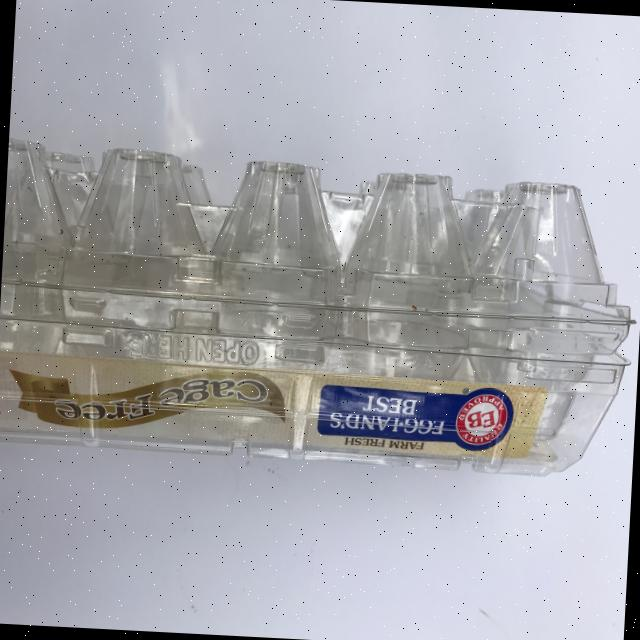plastic: (0, 139, 640, 481)
